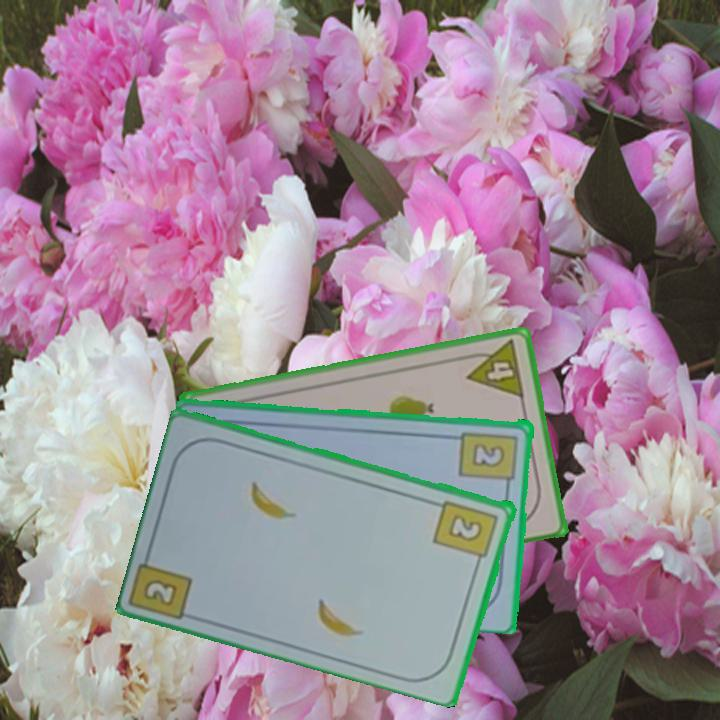2b: (431, 496, 502, 569), (457, 427, 521, 492), (140, 575, 181, 609)
4p: (460, 336, 527, 401)
